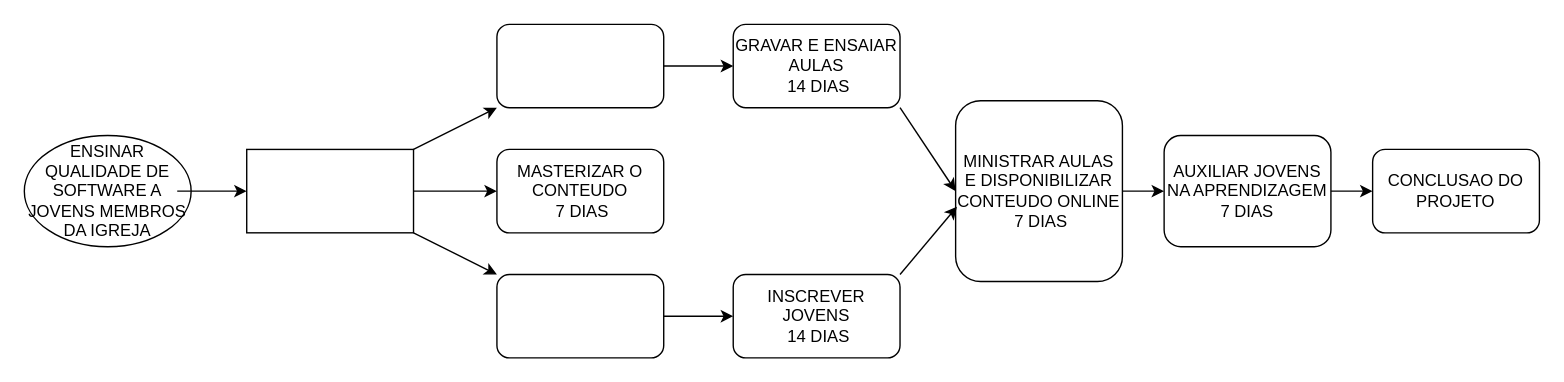
The diagram is 1564 pixels wide and 382 high, and some of its shapes have lost their labels. The shapes that lost their labels are listed below. From the top down, each one's centre as x and y in pixels, then its label:
pixel 580 65: PLANEJAR AULAS 7 DIAS
pixel 329 190: PLANEJAMENTO 14 DIAS
pixel 580 315: DIVULGAR PARA A COMUNIDADE 7 DIAS
